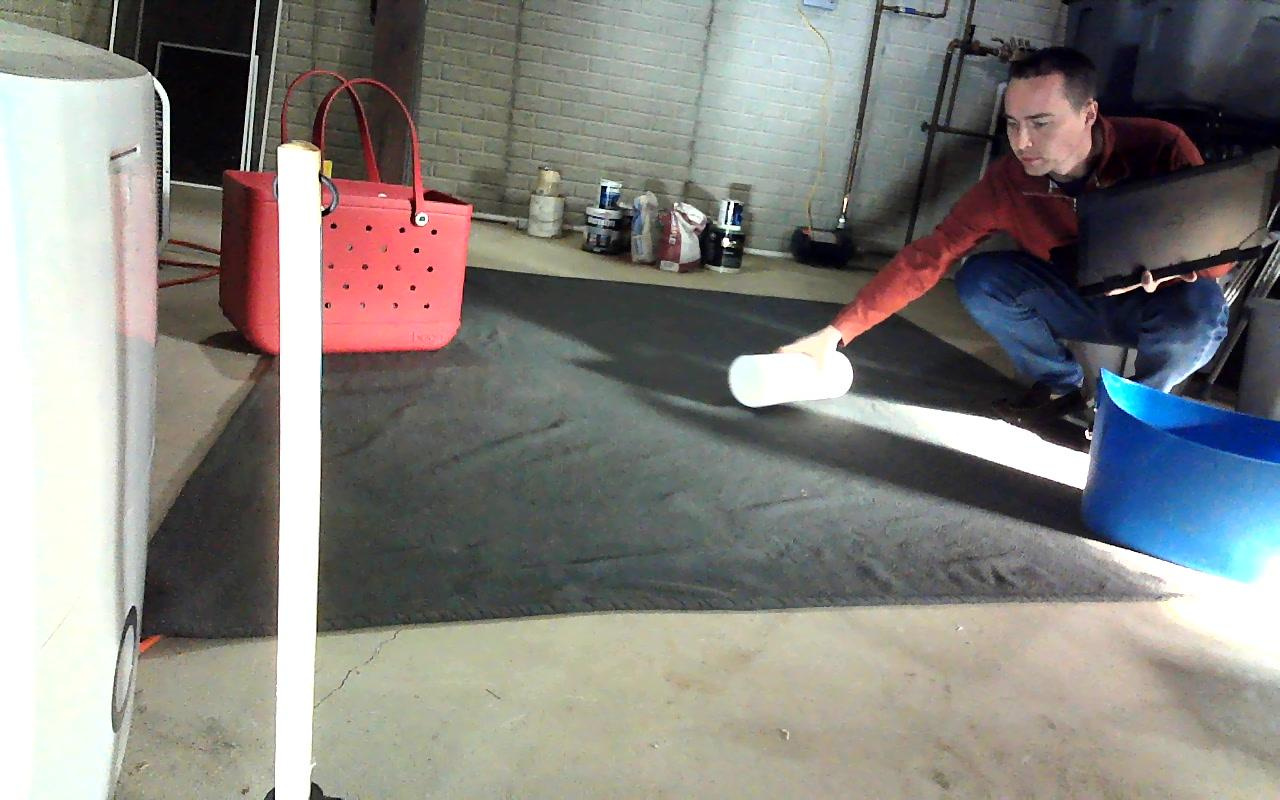coral: (729, 350, 852, 405)
